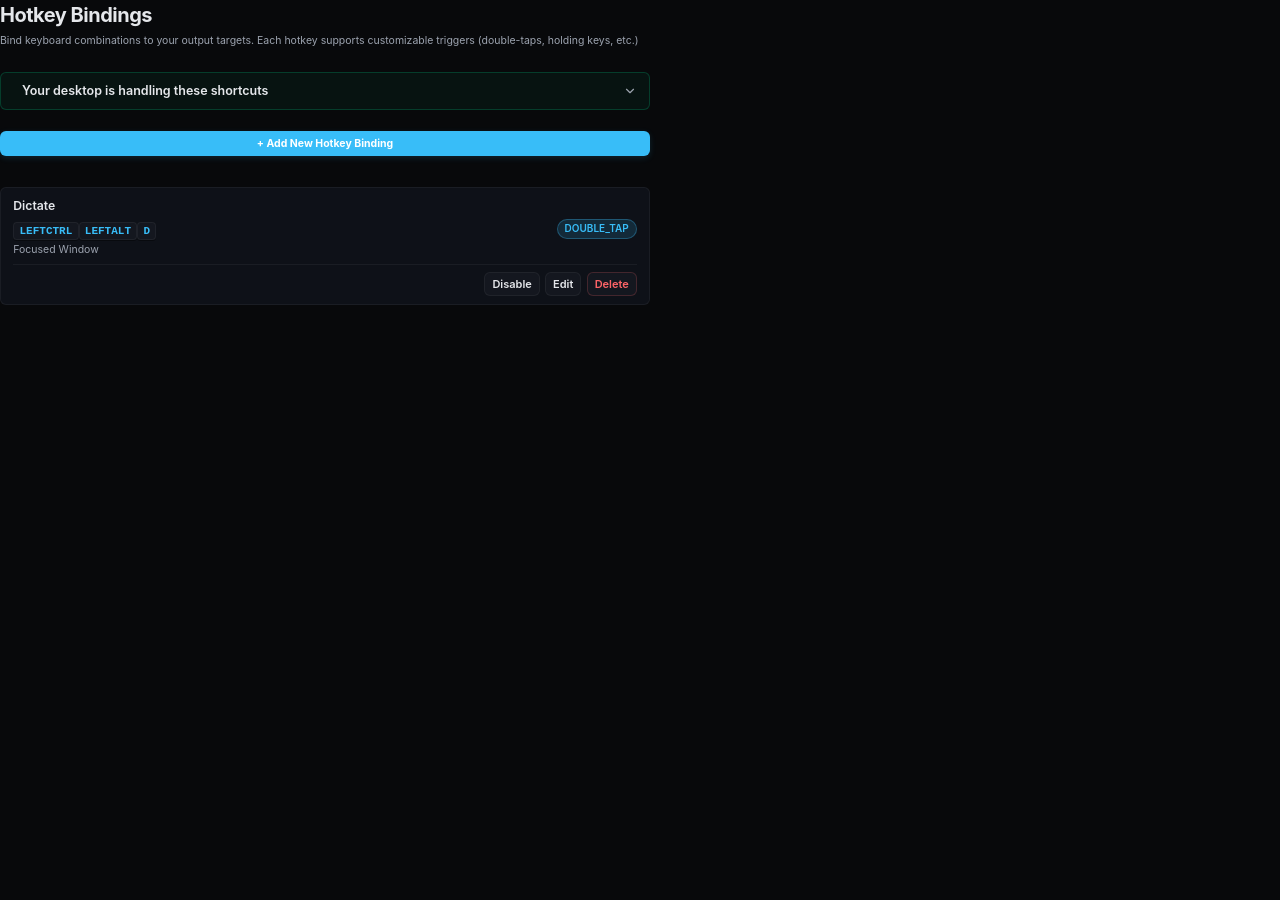
Test: HotkeysTab.svelte Conflict Detection and Nested Modal › refuses a bare-modifier capture and says why
Click the button "Edit": coordinates (563, 284) top-left (545, 272), bottom-right (581, 296)
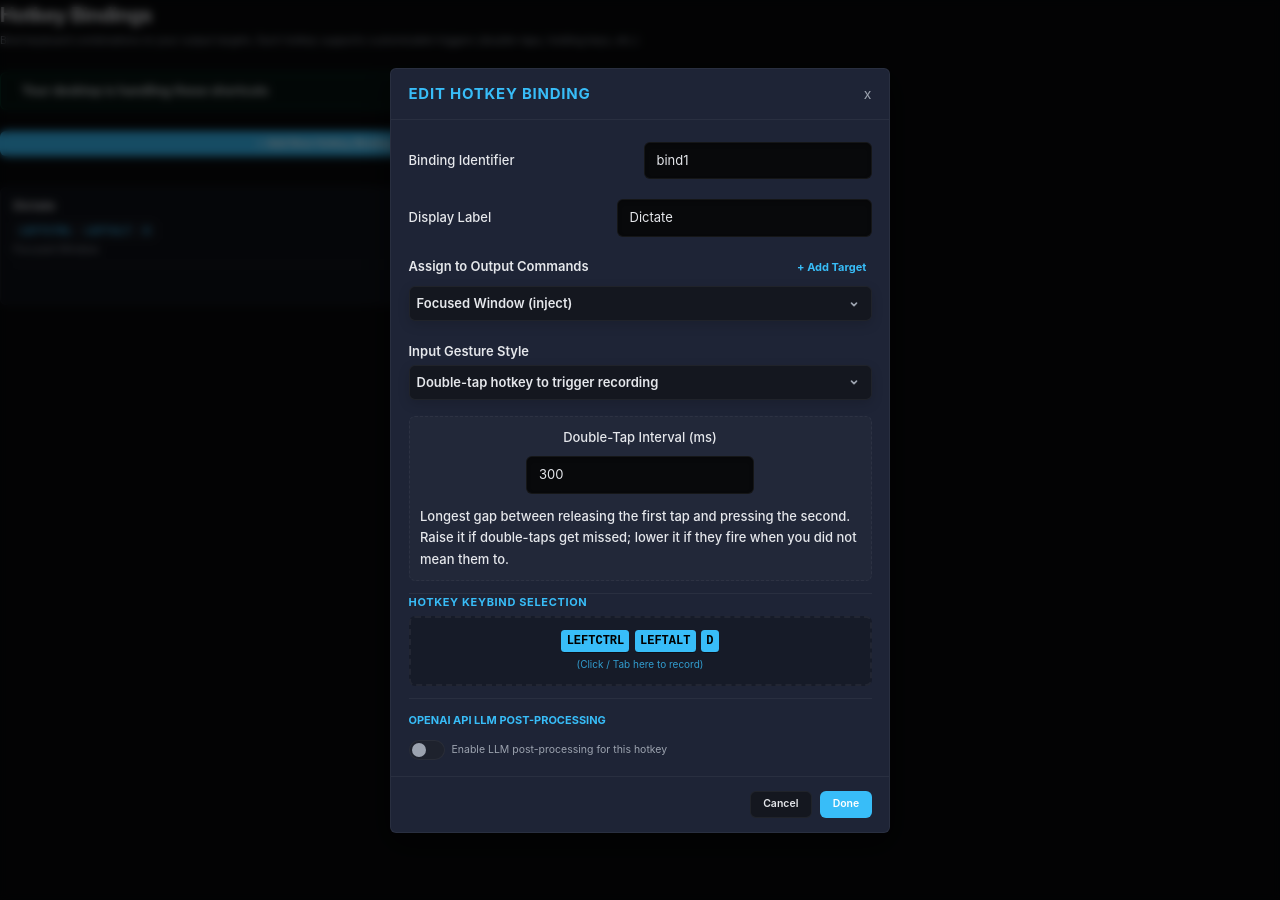
Focus the button with aria-label "Base Hotkey recorder input": coordinates (640, 651) top-left (408, 616), bottom-right (872, 686)
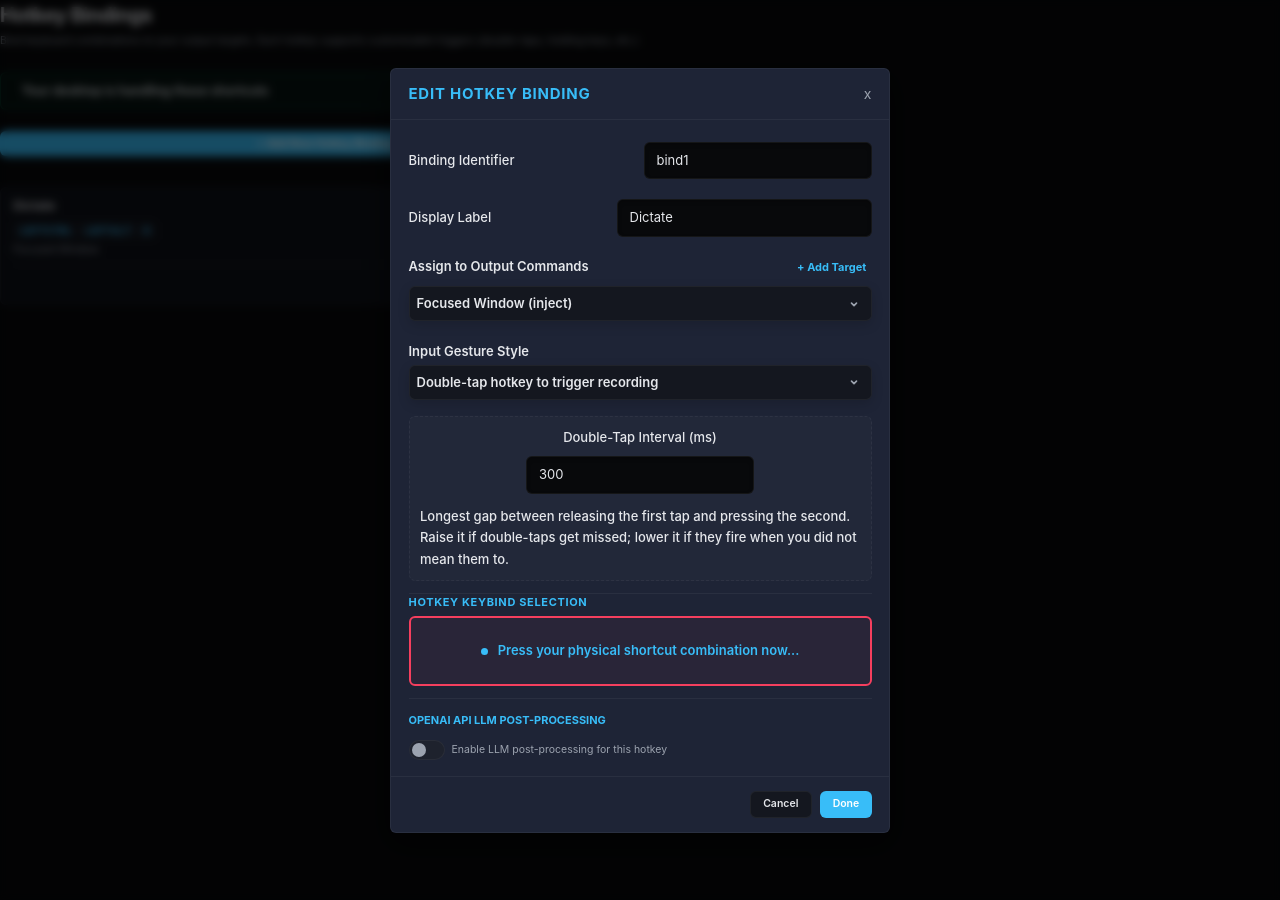
Press Meta in the button with aria-label "Base Hotkey recorder input", box top-left (408, 616), bottom-right (872, 686)
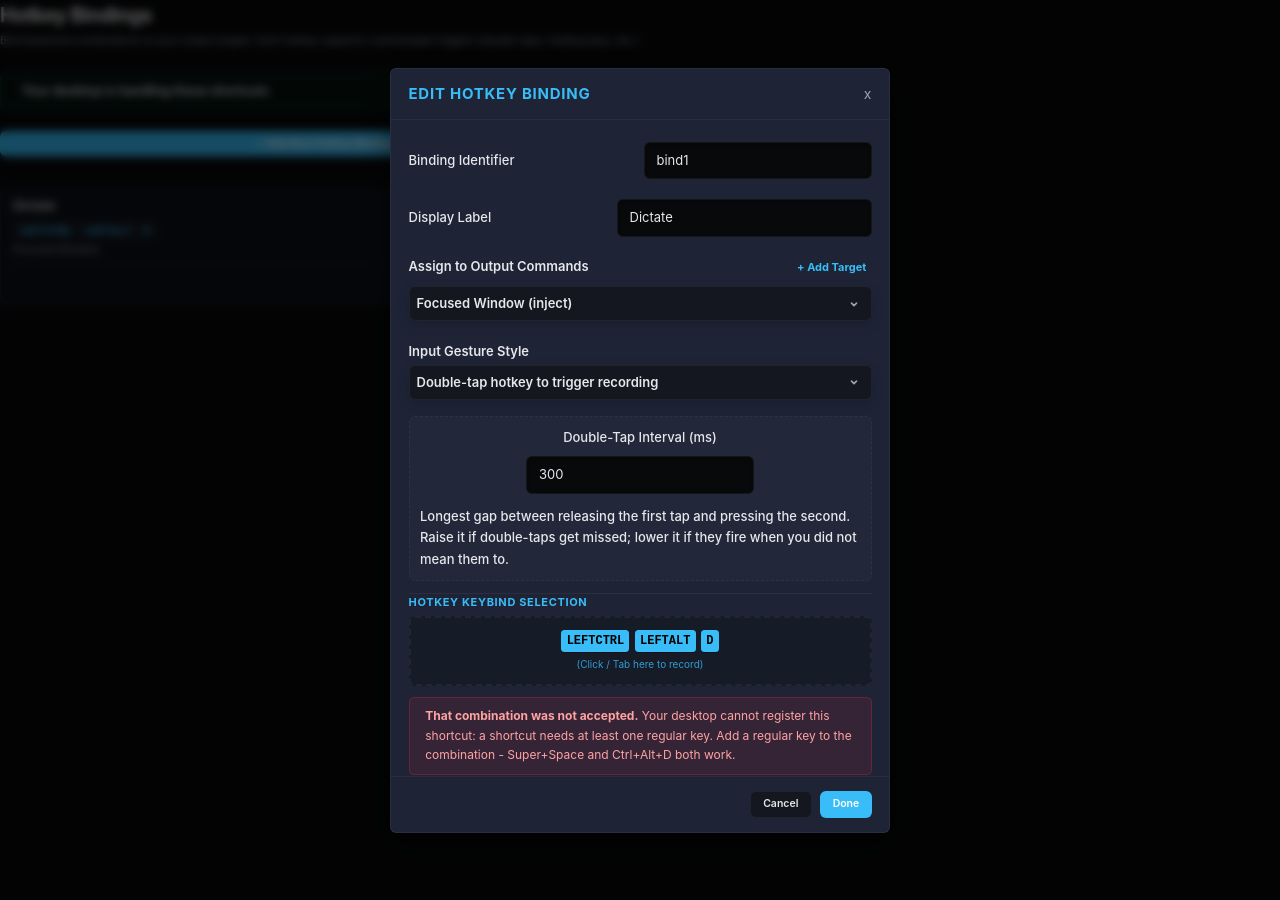
Expected: the text "That combination was not accepted." is shown, top-left (425, 708), bottom-right (638, 723)
Expected: the text "needs at least one regular key" is shown, top-left (425, 708), bottom-right (852, 762)
